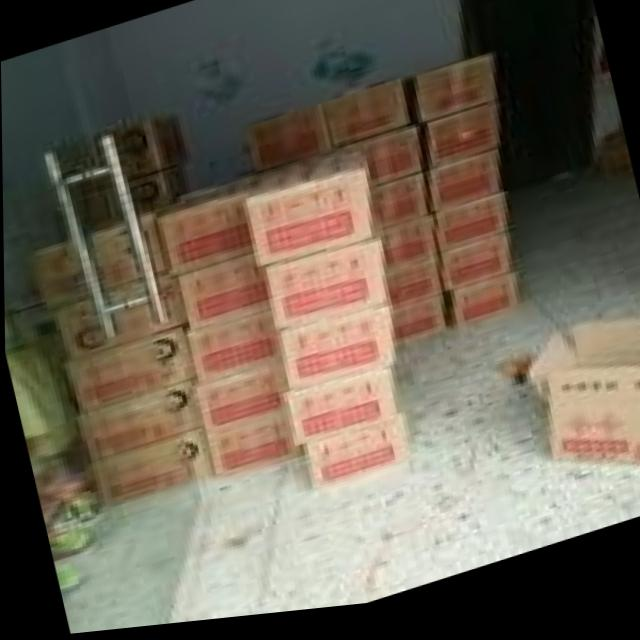box: (522, 335, 640, 473), (241, 157, 379, 275), (55, 273, 182, 365), (63, 330, 192, 418), (261, 246, 388, 335), (75, 379, 200, 467), (156, 178, 252, 283), (275, 317, 396, 397), (86, 432, 213, 508), (300, 417, 410, 497), (284, 378, 399, 449), (170, 255, 269, 331), (197, 363, 287, 443), (189, 313, 281, 385), (244, 106, 331, 177), (202, 424, 300, 484), (324, 86, 410, 154), (332, 134, 424, 196), (415, 62, 494, 132), (109, 119, 191, 182), (430, 201, 511, 260), (426, 109, 496, 177), (24, 235, 85, 311), (428, 156, 498, 221), (81, 219, 141, 292), (439, 240, 512, 299), (378, 225, 438, 287), (448, 283, 517, 335), (372, 179, 427, 239), (127, 165, 190, 214), (388, 303, 445, 353), (389, 272, 444, 315)
